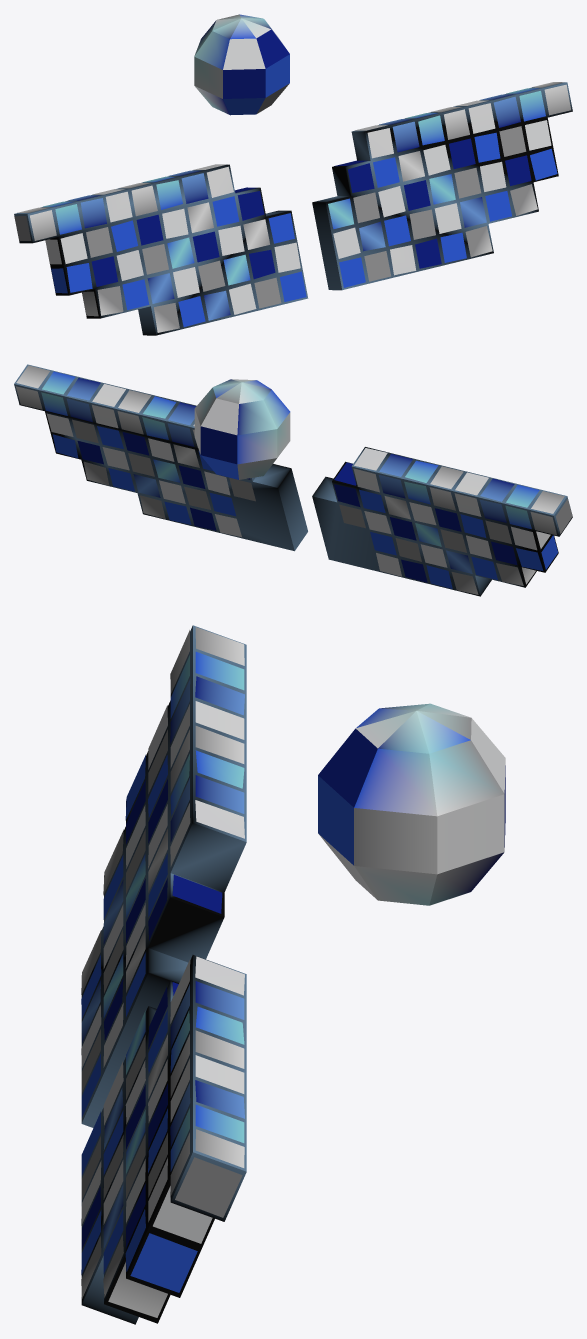
The model's file is hat_premium_NewYearsDisco.glb.
3 views of the same model, one above another, from view 1: azimuth 30°, elevation 25°; view 2: azimuth 150°, elevation 25°; view 3: azimuth 270°, elevation 25° (orthographic). The views are drawn at different scales.
Parts seen in each view (by area): view 1: hat_premium_NewYearsDisco; view 2: hat_premium_NewYearsDisco; view 3: hat_premium_NewYearsDisco.
Boxes of the visible parts, x1,y1,x2,y2 form: hat_premium_NewYearsDisco: [14, 14, 572, 335]; hat_premium_NewYearsDisco: [14, 364, 572, 596]; hat_premium_NewYearsDisco: [81, 625, 505, 1324].
Bounding box in the file's own units: 1.01 × 0.3999 × 0.3425.
